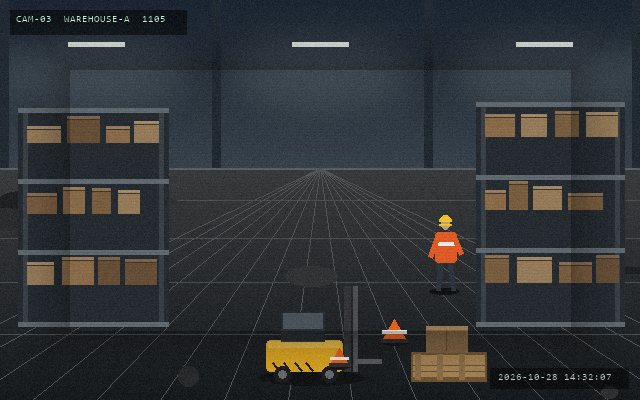cone: (380, 317, 408, 345), (328, 346, 350, 369)
forklift: (262, 284, 383, 385)
pallet: (409, 350, 488, 383)
person: (429, 214, 463, 293)
shelf: (476, 102, 624, 322), (18, 108, 168, 322)
